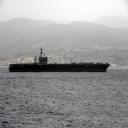Portanaves: (8, 48, 112, 74)
